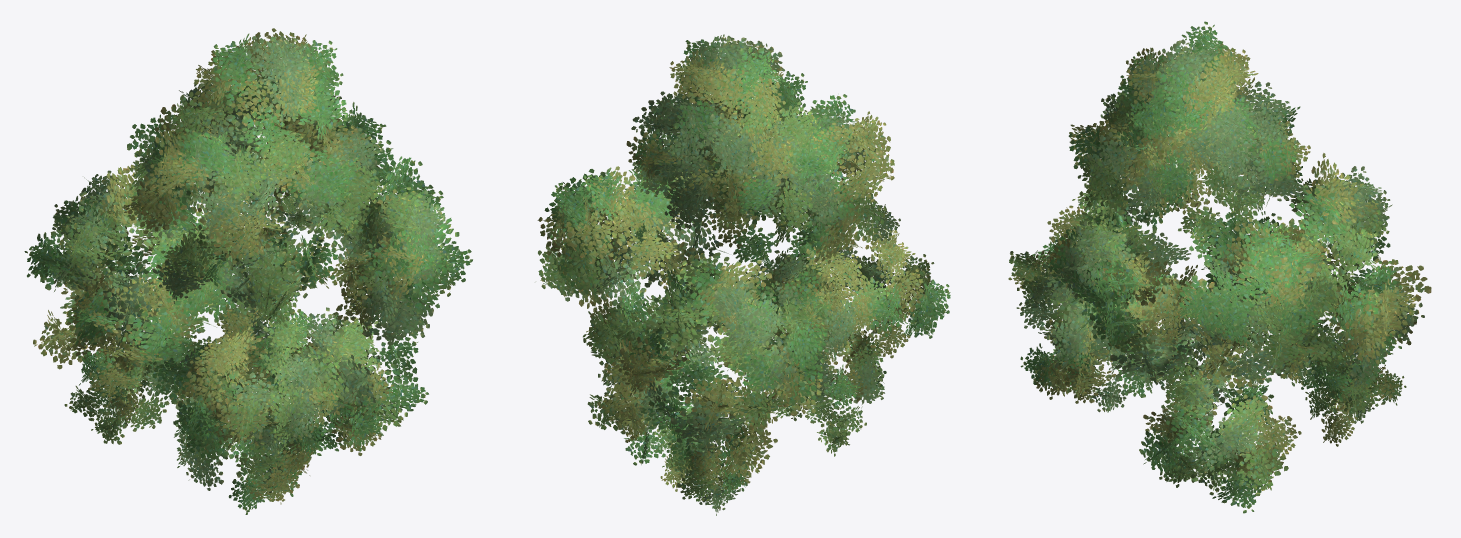
Rendered from Forest_plant_tree_086_a.fbx.
3 views of the same model, side by side, from view 1: azimuth 30°, elevation 25°; view 2: azimuth 150°, elevation 25°; view 3: azimuth 270°, elevation 25° (orthographic). The views are drawn at different scales.
Visible parts, largest first — view 1: attribwrangle50; view 2: attribwrangle50; view 3: attribwrangle50.
Boxes of the visible parts, <box> form: attribwrangle50: <box>24,28,472,514</box>; attribwrangle50: <box>537,34,950,515</box>; attribwrangle50: <box>1008,21,1431,513</box>.
Size of the model in its own units: 5337 by 6513 by 5794.
